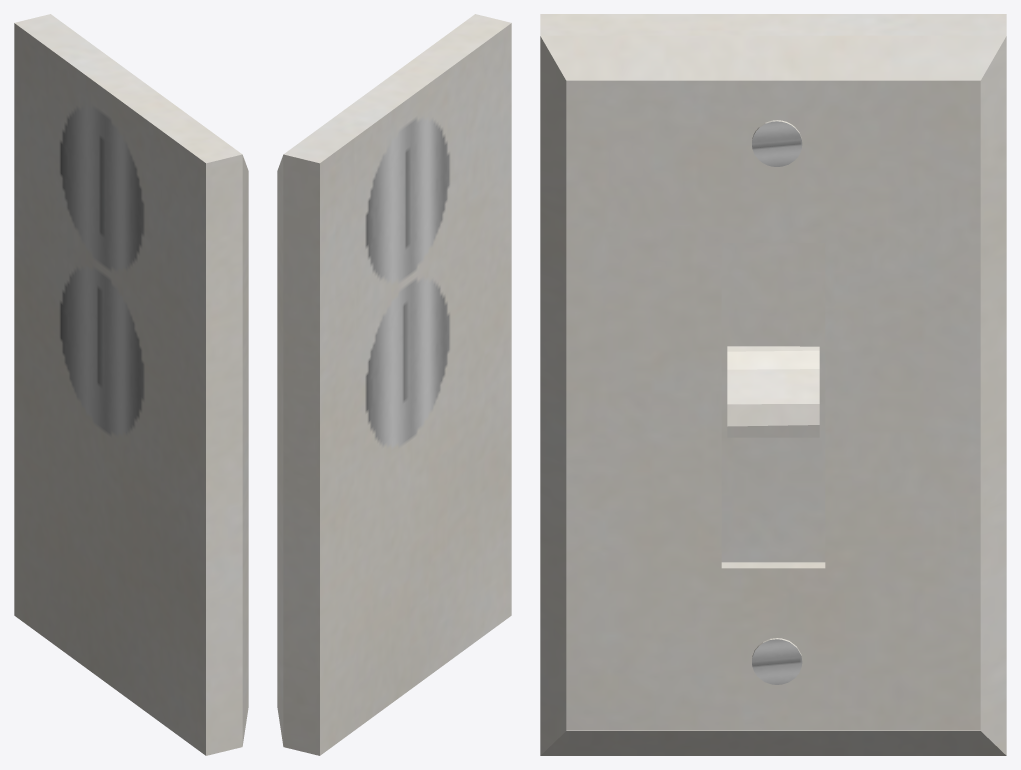
Rendered from lightswitchlowpoly.fbx.
3 views of the same model, side by side, from view 1: azimuth 30°, elevation 25°; view 2: azimuth 150°, elevation 25°; view 3: azimuth 270°, elevation 25° (orthographic). The views are drawn at different scales.
Visible parts, largest first — view 1: Cylinder.001; view 2: Cylinder.001; view 3: Cylinder.001.
Boxes of the visible parts, box(x1,y1,x2,y2) form: Cylinder.001: box(14, 14, 248, 755); Cylinder.001: box(277, 14, 511, 755); Cylinder.001: box(540, 14, 1006, 755).
Bounding box in the file's own units: 74.91 × 369 × 217.
